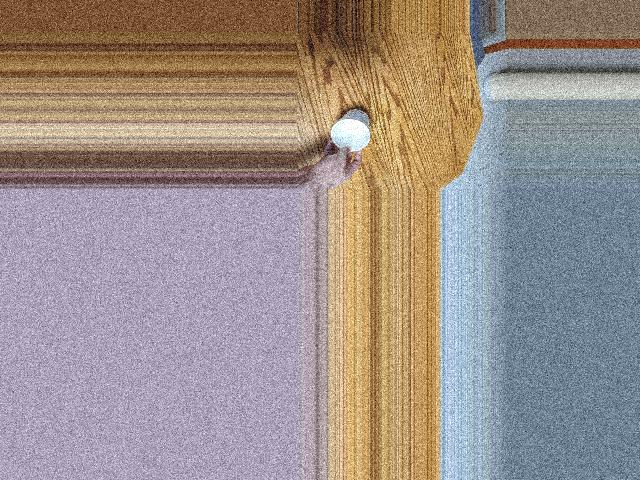cotage: (331, 113, 373, 157)
